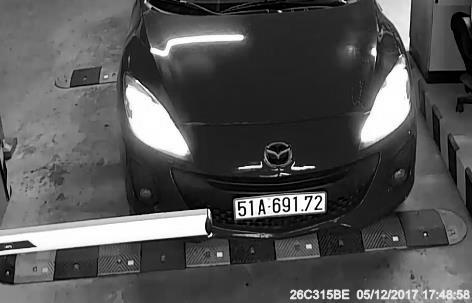License-plate: (229, 188, 334, 227)
